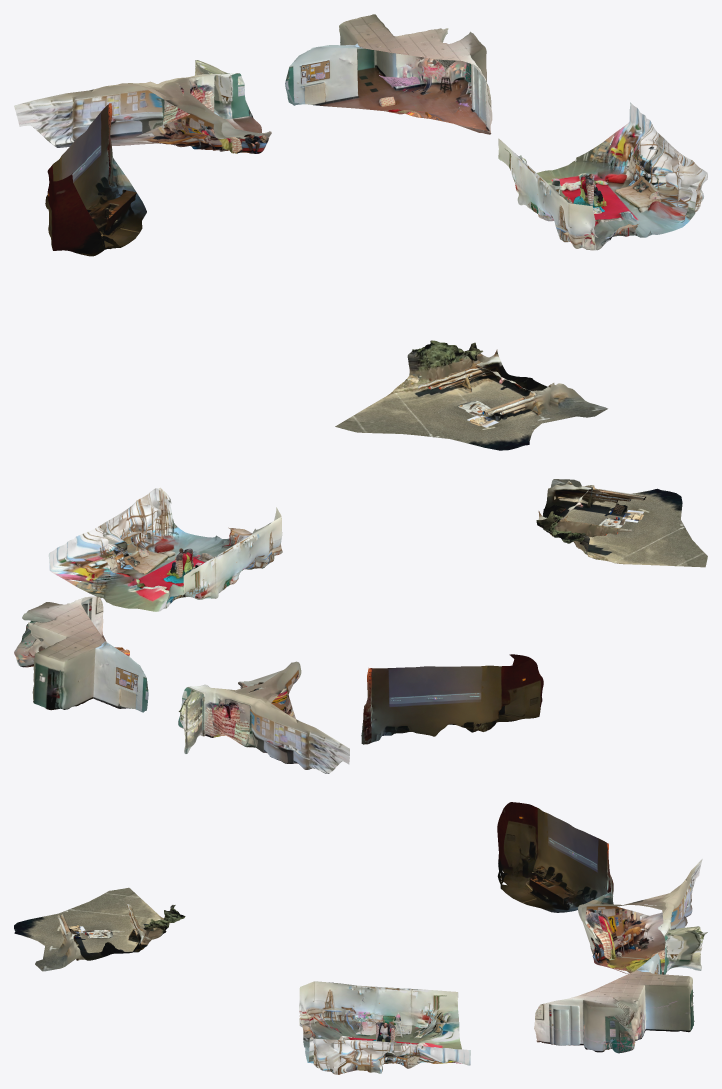
The picture shows the model from 3 angles, top to bottom: view 1: azimuth 30°, elevation 25°; view 2: azimuth 150°, elevation 25°; view 3: azimuth 270°, elevation 25°; orthographic projection. The views are drawn at different scales.
Parts seen in each view (by area): view 1: photogrammetry-4, photogrammetry-1, photogrammetry-5, photogrammetry-3, photogrammetry-2; view 2: photogrammetry-4, photogrammetry-2, photogrammetry-1, photogrammetry-5, photogrammetry-3; view 3: photogrammetry-4, photogrammetry-2, photogrammetry-1, photogrammetry-3, photogrammetry-5.
Boxes of the visible parts, x1,y1,x2,y2 form: photogrammetry-4: [498, 102, 707, 250]; photogrammetry-1: [285, 14, 492, 134]; photogrammetry-5: [335, 340, 607, 450]; photogrammetry-3: [14, 60, 271, 153]; photogrammetry-2: [45, 103, 146, 256]; photogrammetry-4: [48, 487, 282, 611]; photogrammetry-2: [361, 654, 543, 744]; photogrammetry-1: [14, 596, 148, 712]; photogrammetry-5: [536, 479, 707, 567]; photogrammetry-3: [178, 661, 349, 773]; photogrammetry-4: [299, 981, 470, 1074]; photogrammetry-2: [497, 802, 613, 912]; photogrammetry-1: [534, 953, 694, 1053]; photogrammetry-3: [578, 859, 707, 974]; photogrammetry-5: [14, 887, 185, 971].
Size of the model in its own units: 26.24 by 4.02 by 34.93.
5 materials, 5 textured.
